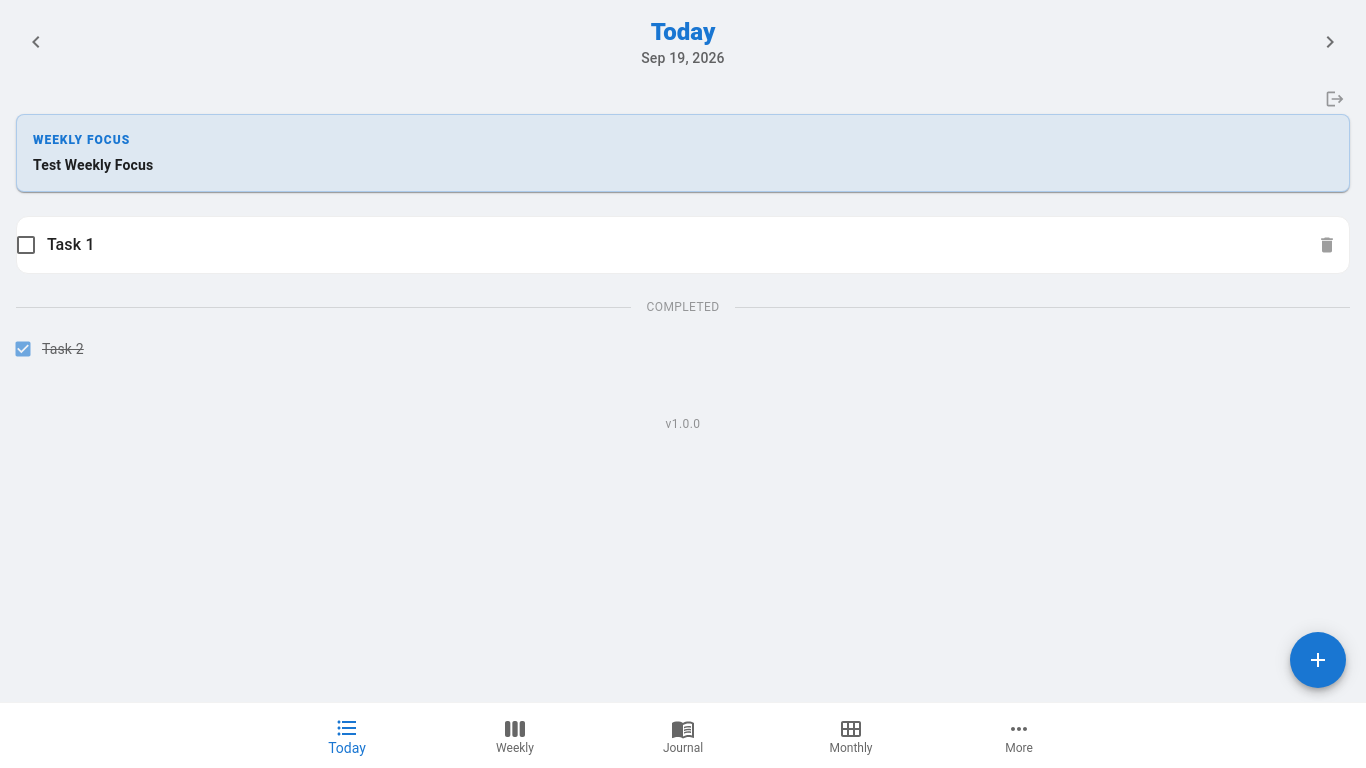
it: MobileApp Component › navigates to Journal view and renders prompts
Click the button "Journal": (683, 736) [599,703,767,767]
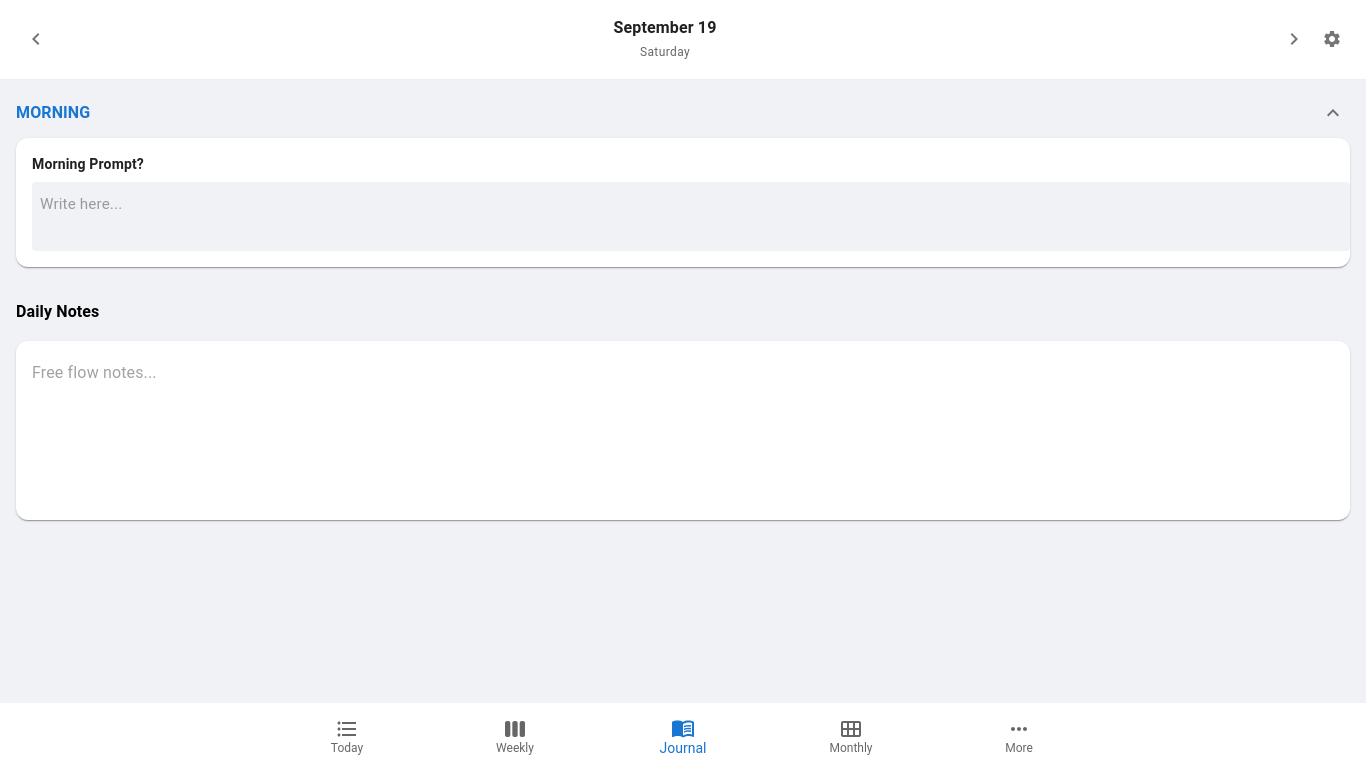
Now the heading "Morning" is shown, box [16,100,90,126]
Now the text "Morning Prompt?" is shown, box [32,156,144,172]
